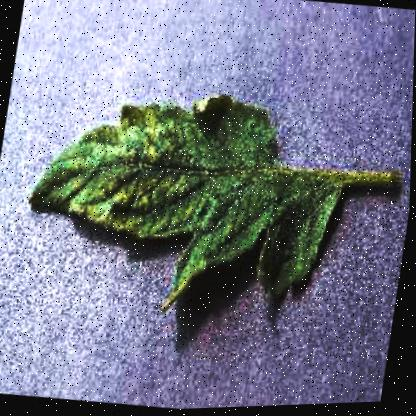Virus: (11, 65, 413, 344)
